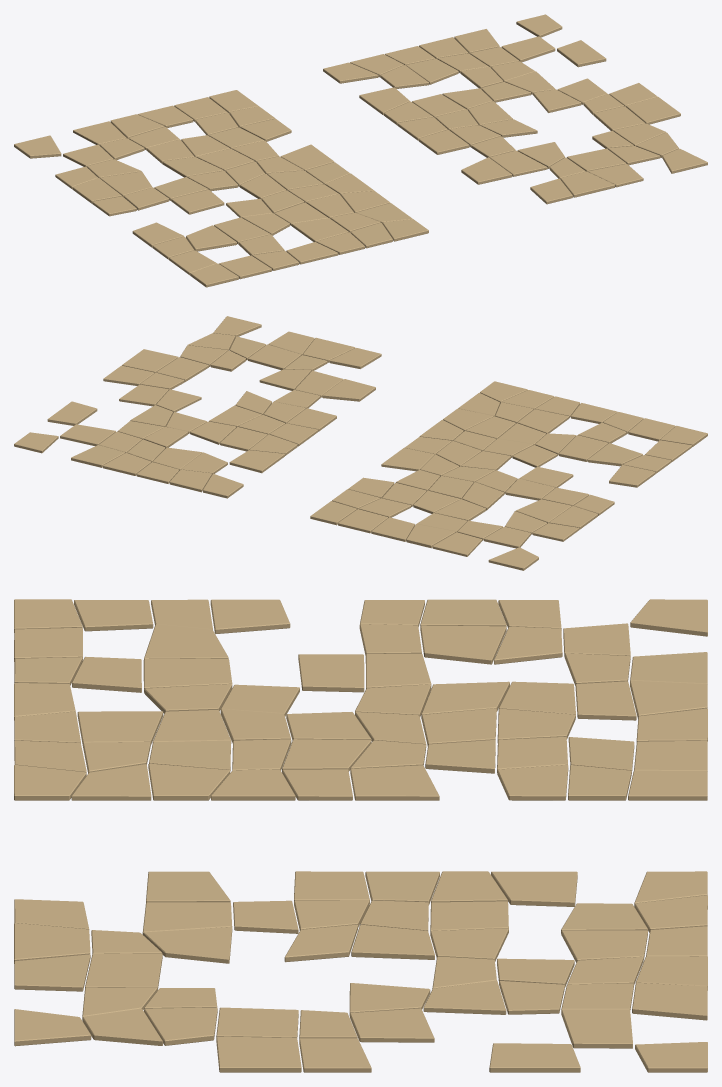
The model's file is Floor1_ArenaStone.fbx.
3 views of the same model, one above another, from view 1: azimuth 30°, elevation 25°; view 2: azimuth 150°, elevation 25°; view 3: azimuth 270°, elevation 25° (orthographic). The views are drawn at different scales.
Parts seen in each view (by area): view 1: Arena0-1_0_0.001; view 2: Arena0-1_0_0.001; view 3: Arena0-1_0_0.001.
Boxes of the visible parts, x1,y1,x2,y2 form: Arena0-1_0_0.001: (14, 14, 707, 287); Arena0-1_0_0.001: (14, 316, 707, 570); Arena0-1_0_0.001: (14, 599, 707, 1072).
Size of the model in its own units: 14981 by 88.58 by 9381.
